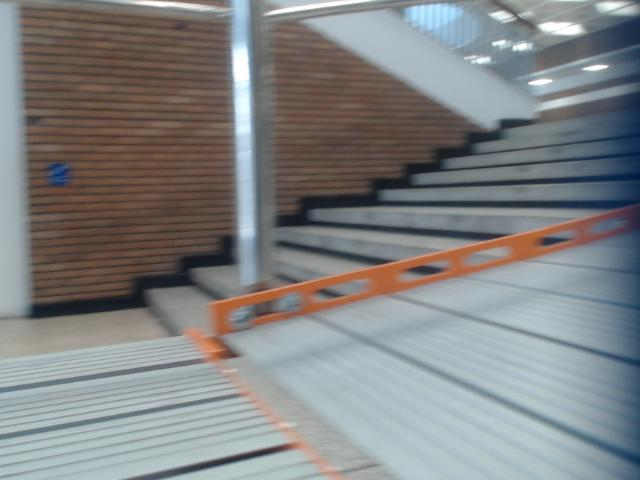rampUp: (0, 204, 639, 479)
ramps-railing: (73, 0, 420, 286)
